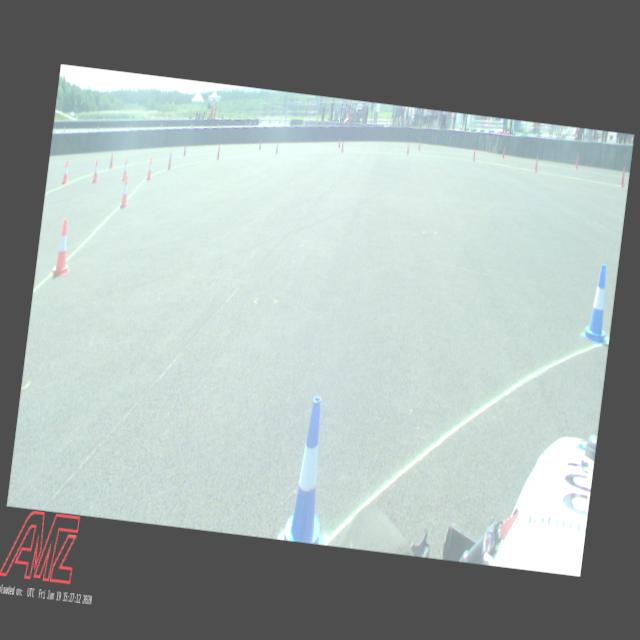blue_cone: (278, 393, 342, 545), (579, 262, 617, 345)
orange_cone: (50, 217, 75, 278), (118, 175, 130, 208), (60, 159, 70, 185), (91, 158, 100, 182), (121, 157, 129, 181), (146, 157, 154, 180)
